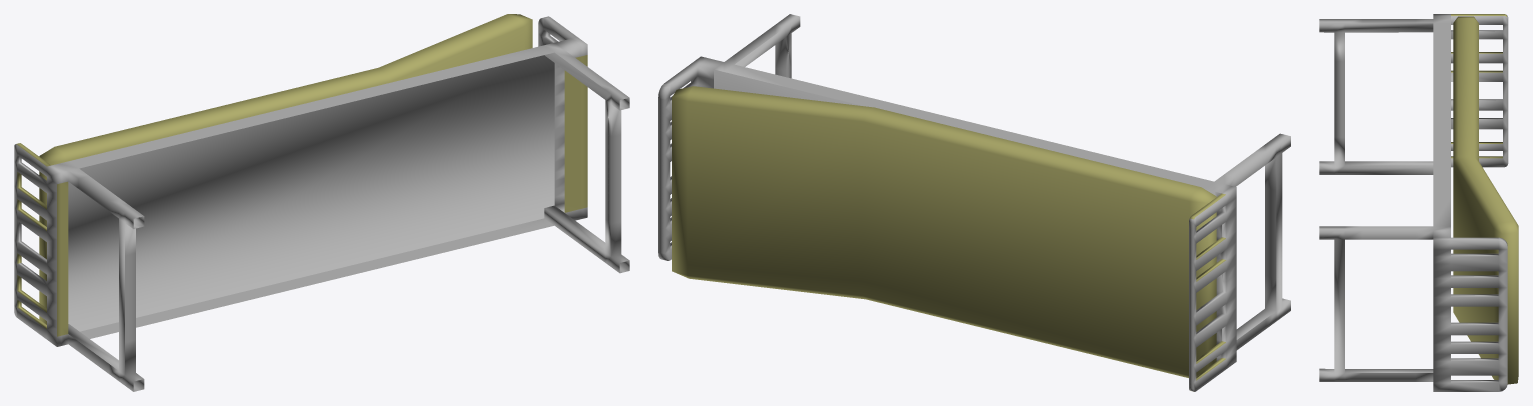
3 renders of one model, left to right at view 1: azimuth 30°, elevation 25°; view 2: azimuth 150°, elevation 25°; view 3: azimuth 270°, elevation 25°, orthographic. The views are drawn at different scales.
Visible parts, largest first — view 1: Cube.001; view 2: Cube.001; view 3: Cube.001.
Part boxes in pixels (x1=…): Cube.001: x1=14, y1=14, x2=629, y2=391; Cube.001: x1=658, y1=14, x2=1290, y2=391; Cube.001: x1=1319, y1=14, x2=1518, y2=391.
Size of the model in its own units: 209 by 68.91 by 77.44.
